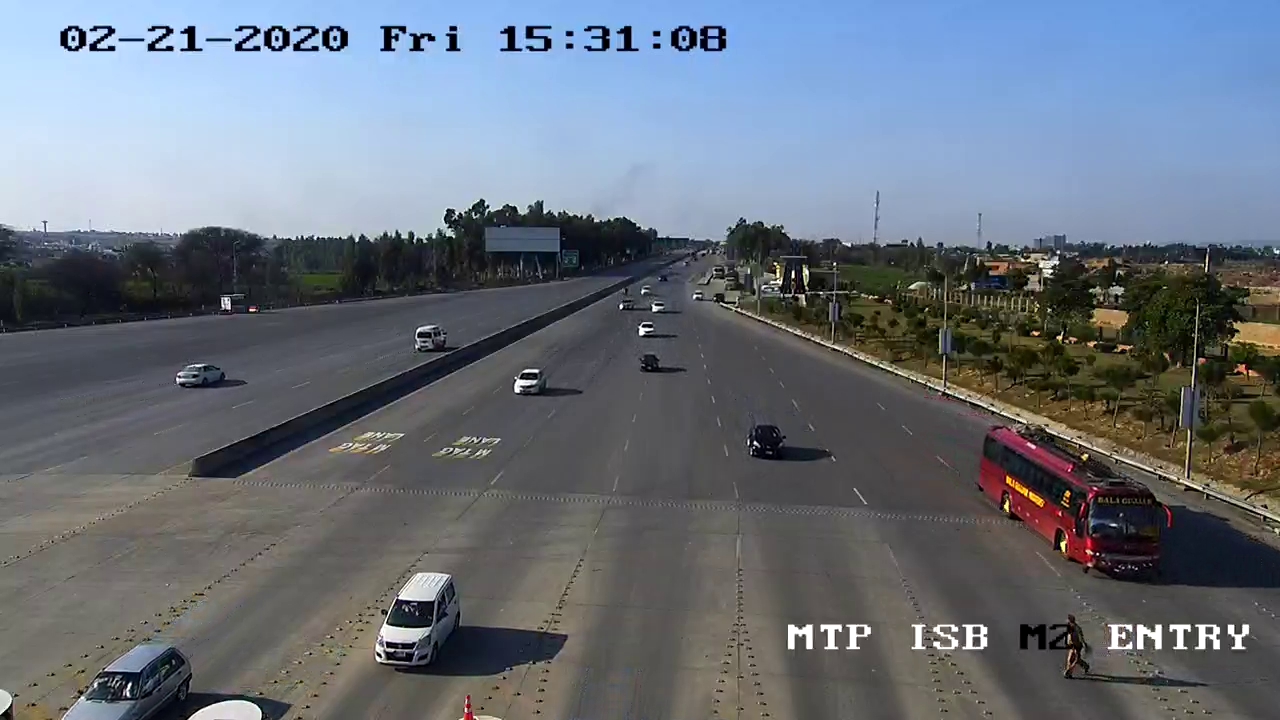f1: (363, 558, 466, 680), (735, 414, 792, 469), (505, 363, 552, 403)
f4: (960, 418, 1192, 588)
